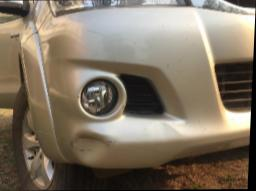Bumper: (38, 118, 218, 169)
